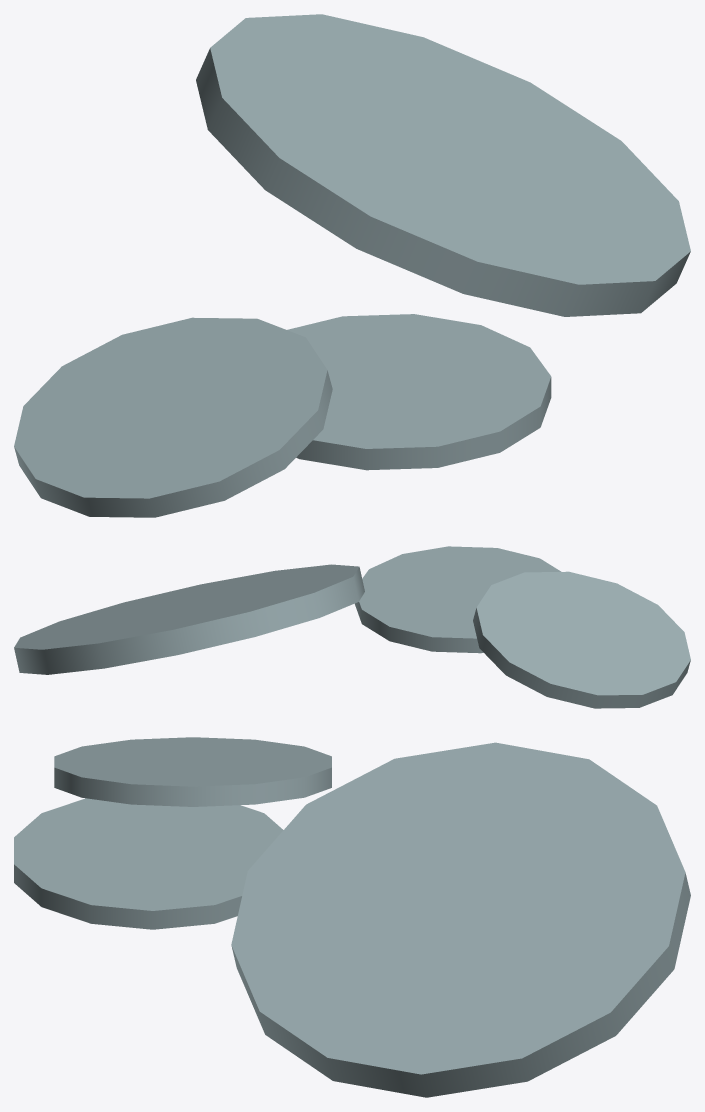
File: SM_Pancakes_01.fbx
The picture shows the model from 3 angles, top to bottom: view 1: azimuth 30°, elevation 25°; view 2: azimuth 150°, elevation 25°; view 3: azimuth 270°, elevation 25°; orthographic projection. The views are drawn at different scales.
Parts seen in each view (by area): view 1: SM_Pancakes_01; view 2: SM_Pancakes_01; view 3: SM_Pancakes_01.
Boxes of the visible parts, x1=… form: SM_Pancakes_01: x1=14, y1=14, x2=690, y2=517; SM_Pancakes_01: x1=14, y1=546, x2=690, y2=708; SM_Pancakes_01: x1=14, y1=737, x2=690, y2=1097.
Size of the model in its own units: 82.55 by 21.22 by 70.99.
Materials: 1 (1 with a texture image).
